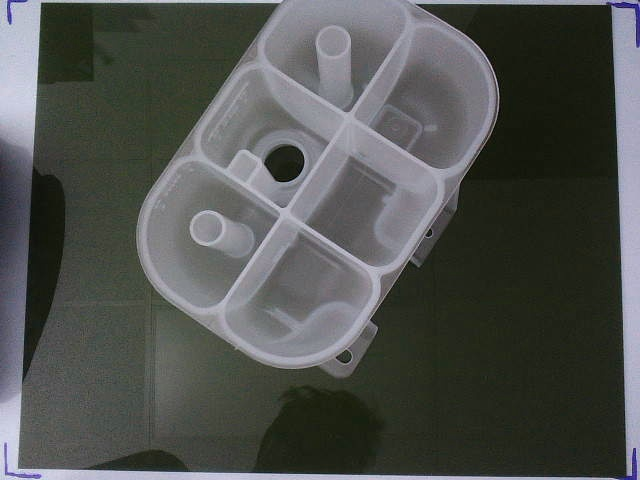reservoir_transparent_Under: (136, 1, 499, 379)
